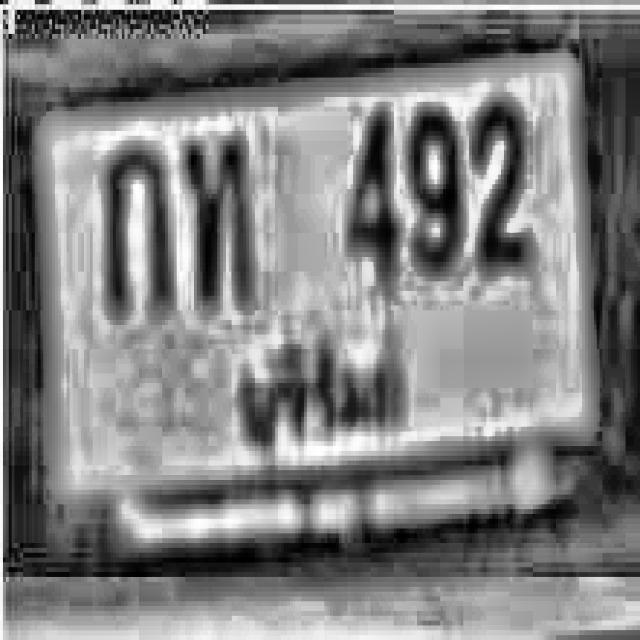license-plate: (1, 29, 623, 580)
